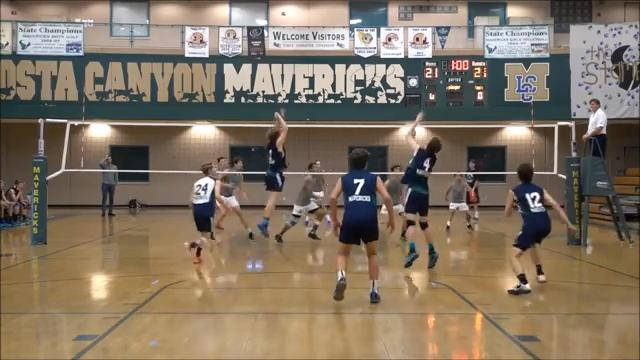Player: (330, 148, 394, 302), (505, 163, 575, 294), (401, 112, 441, 268), (275, 163, 325, 242), (257, 109, 287, 237), (184, 162, 222, 263), (216, 158, 253, 239), (384, 164, 405, 241), (445, 174, 472, 229), (308, 160, 325, 207), (214, 201, 228, 229)
